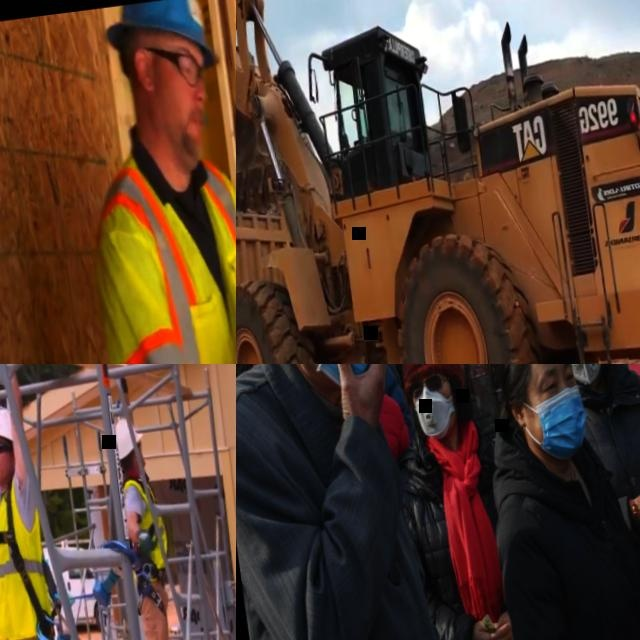Hardhat: (100, 0, 222, 81), (113, 416, 147, 460), (0, 406, 12, 444)
Mask: (530, 385, 591, 464), (410, 385, 454, 443), (303, 364, 380, 395), (561, 364, 608, 387)
NO-Hardhat: (395, 364, 464, 385), (492, 364, 568, 383)
NO-Mask: (145, 76, 210, 171), (0, 453, 11, 482), (139, 450, 145, 466)
NO-Safety Vest: (236, 364, 465, 640), (403, 424, 538, 640), (500, 464, 640, 640), (577, 372, 640, 624)
Person: (58, 0, 236, 364), (536, 364, 640, 640), (0, 364, 102, 640), (99, 373, 196, 640)
Safety Vest: (79, 132, 236, 364), (0, 477, 54, 640), (119, 474, 172, 583)
machinery: (236, 0, 640, 364), (236, 178, 324, 364)
vehicle: (40, 540, 103, 634)
